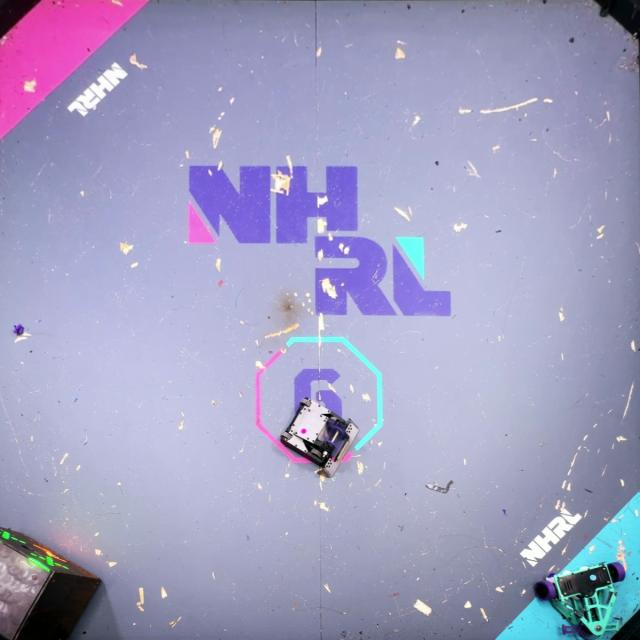housebot: (0, 526, 104, 640)
robot: (277, 393, 361, 479), (536, 561, 624, 640)
